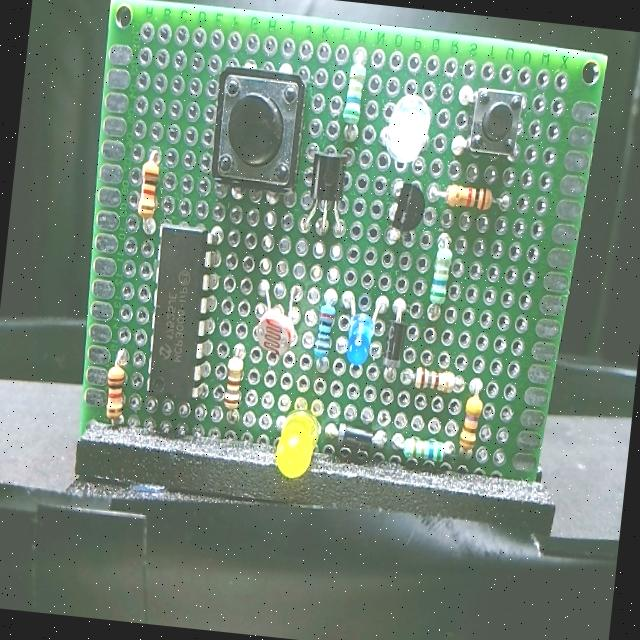IC: (140, 215, 222, 410)
cds: (248, 295, 304, 355)
diode: (269, 391, 331, 480), (372, 93, 438, 166), (336, 284, 389, 364), (378, 305, 414, 380), (336, 418, 392, 456)
resistor: (209, 346, 252, 424), (454, 379, 496, 455), (419, 230, 456, 316), (396, 431, 458, 477), (128, 156, 166, 231), (336, 52, 370, 128), (440, 178, 502, 219), (311, 298, 344, 367), (102, 351, 130, 432), (404, 366, 464, 394)
switch: (198, 57, 312, 196), (466, 75, 525, 154)
transistor: (300, 154, 350, 229), (382, 172, 427, 238)
